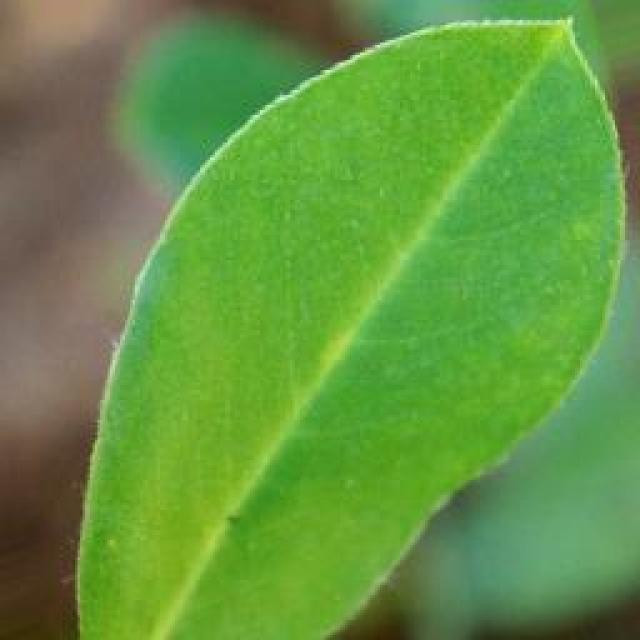Yellow_and_black_sigatoka: (73, 12, 623, 640)
